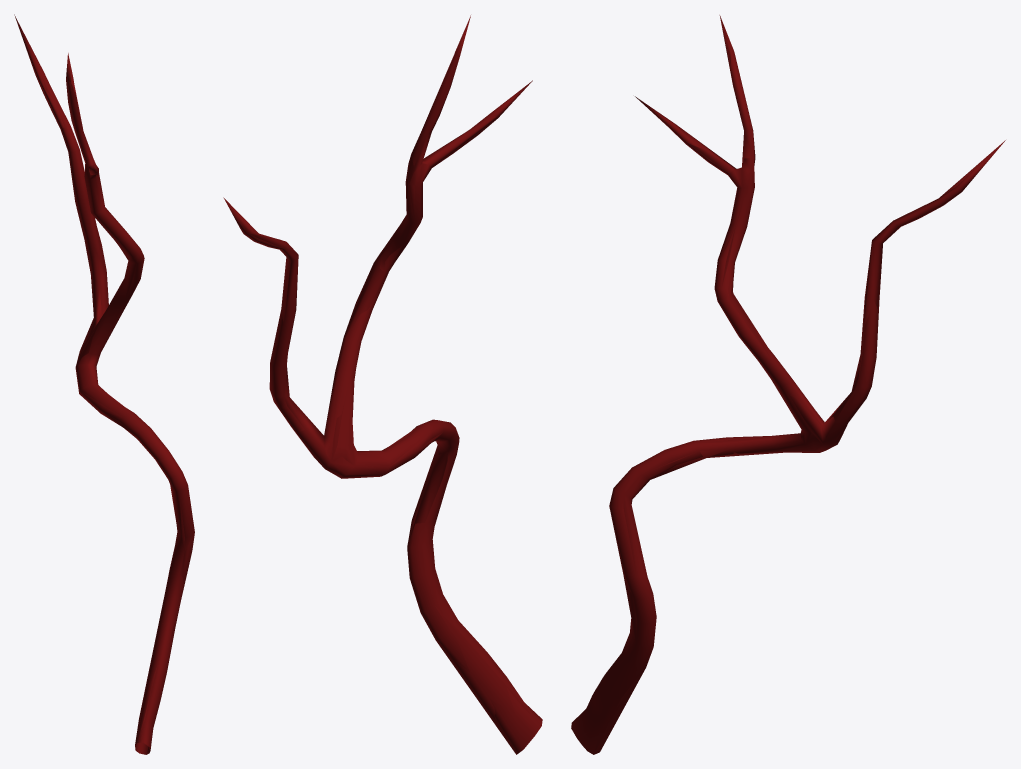
Rendered from L truncus costocervicalis.fbx.
3 views of the same model, side by side, from view 1: azimuth 30°, elevation 25°; view 2: azimuth 150°, elevation 25°; view 3: azimuth 270°, elevation 25° (orthographic). The views are drawn at different scales.
Visible parts, largest first — view 1: L truncus costocervicalis, L truncus costocervicalis low; view 2: L truncus costocervicalis, L truncus costocervicalis low; view 3: L truncus costocervicalis, L truncus costocervicalis low.
Boxes of the visible parts, left/top/right/bottom form: L truncus costocervicalis: left=15, top=16, right=194, bottom=754; L truncus costocervicalis low: left=15, top=16, right=192, bottom=754; L truncus costocervicalis: left=224, top=16, right=542, bottom=754; L truncus costocervicalis low: left=224, top=21, right=541, bottom=752; L truncus costocervicalis: left=571, top=17, right=1005, bottom=754; L truncus costocervicalis low: left=578, top=16, right=1004, bottom=753.
Size of the model in its own units: 2.13 by 11.73 by 6.35.
